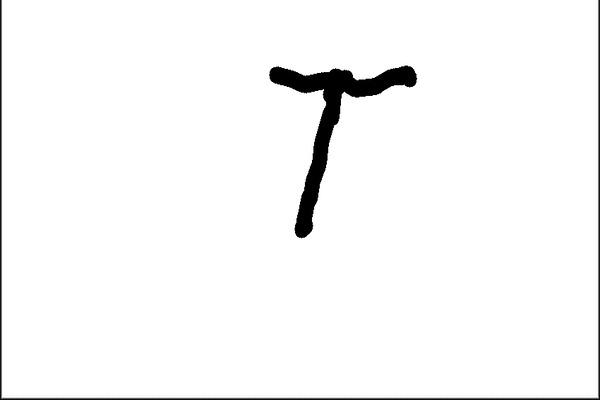T: (266, 52, 423, 243)
